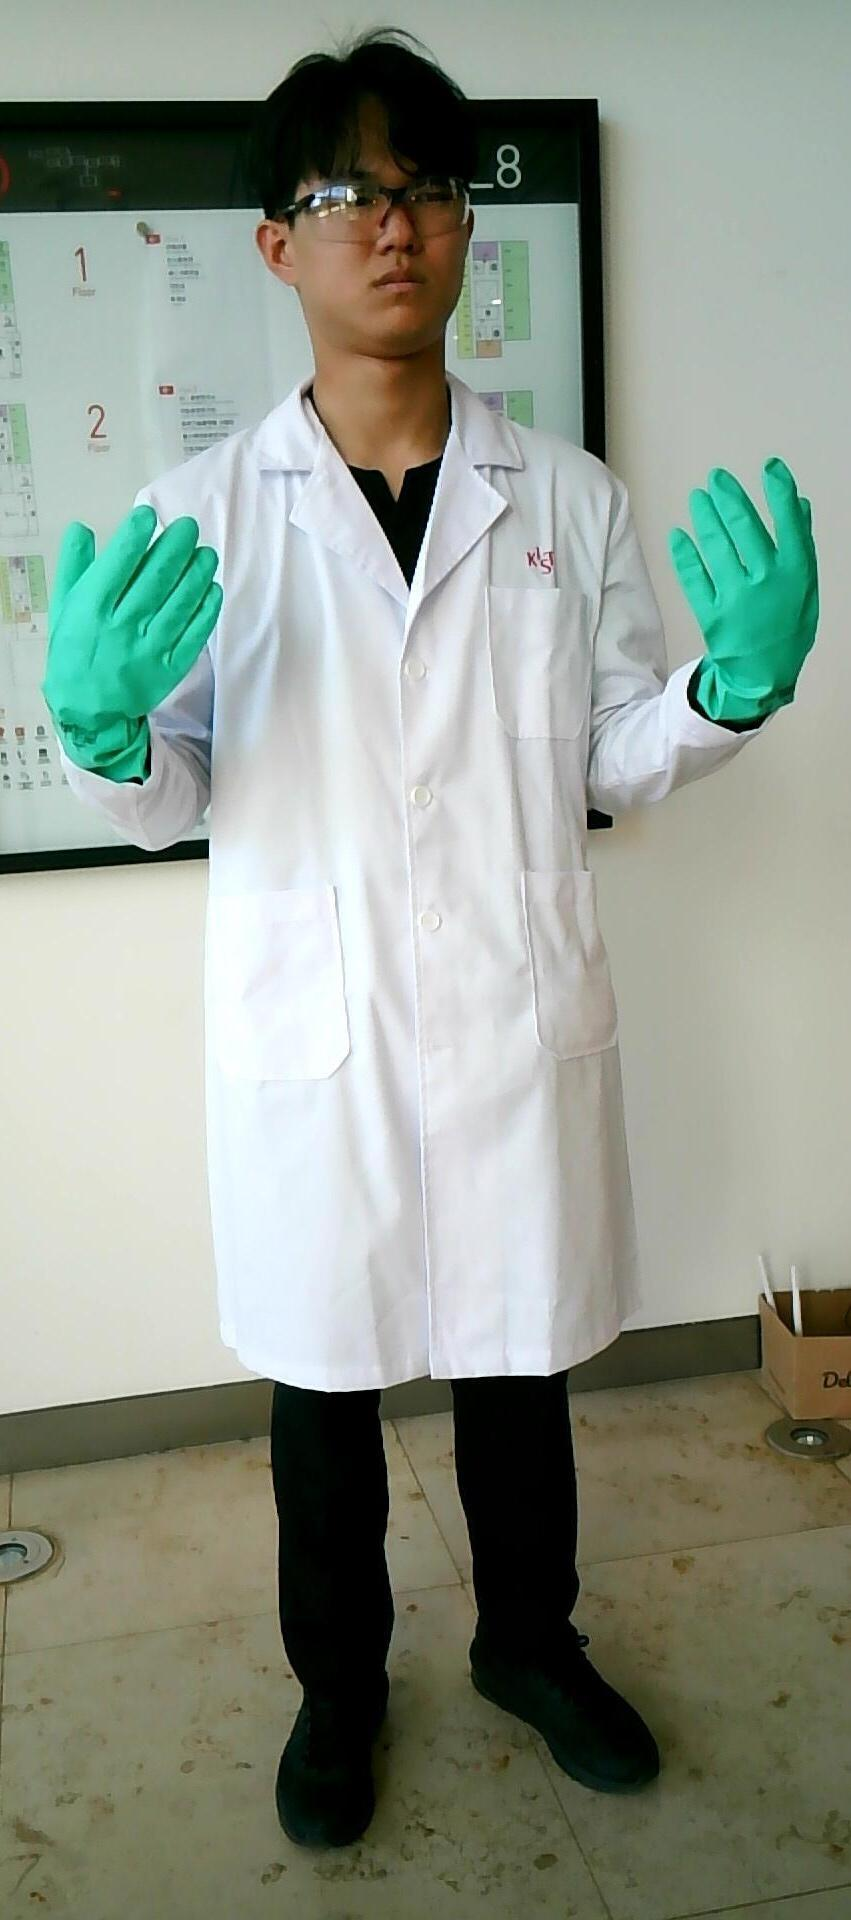lab_coat: (219, 478, 624, 1374)
